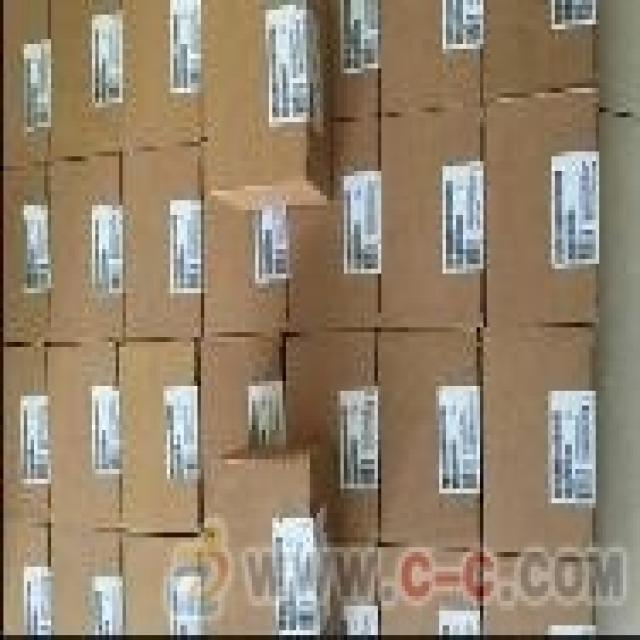box: (199, 0, 332, 214), (483, 86, 598, 327), (481, 326, 597, 556), (378, 104, 484, 333), (221, 435, 338, 633), (377, 334, 482, 551), (286, 332, 381, 547), (286, 118, 380, 335), (201, 334, 286, 536), (119, 338, 204, 537), (199, 145, 287, 337), (43, 154, 124, 347), (122, 143, 202, 338), (45, 345, 121, 531), (380, 1, 484, 118), (483, 2, 598, 104), (129, 3, 200, 149), (380, 545, 483, 635), (121, 531, 208, 635), (481, 555, 593, 635), (1, 345, 50, 527), (2, 161, 49, 345), (48, 526, 123, 635), (1, 0, 48, 167), (86, 2, 129, 154), (48, 2, 87, 158), (320, 544, 381, 635), (0, 527, 51, 635), (334, 2, 380, 118), (204, 537, 228, 635)
